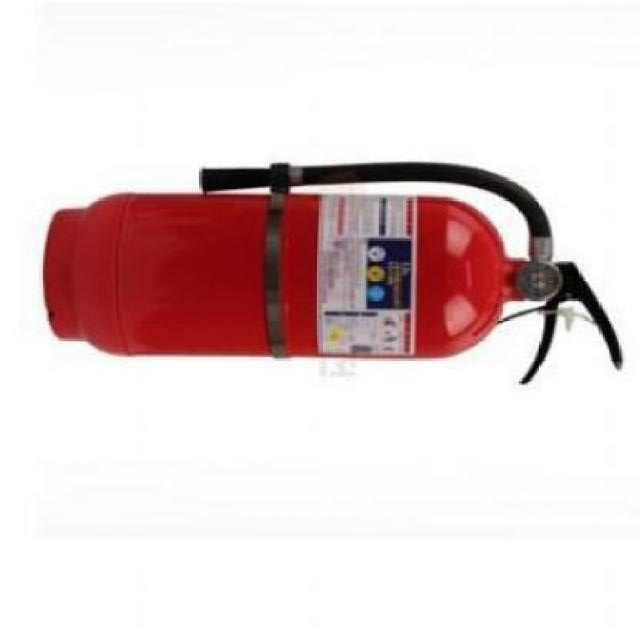fire extinguisher: (41, 161, 624, 385)
